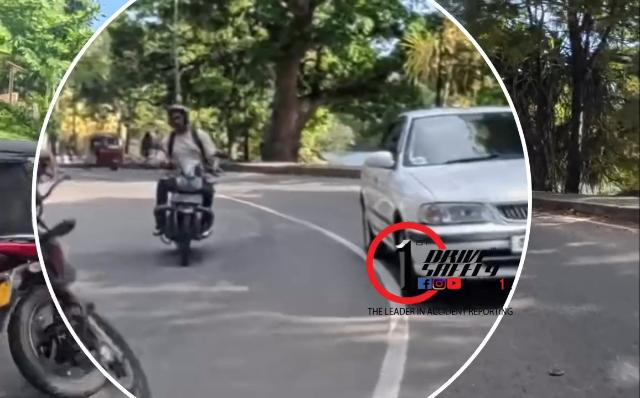illegal overtaking: (142, 98, 249, 269)
